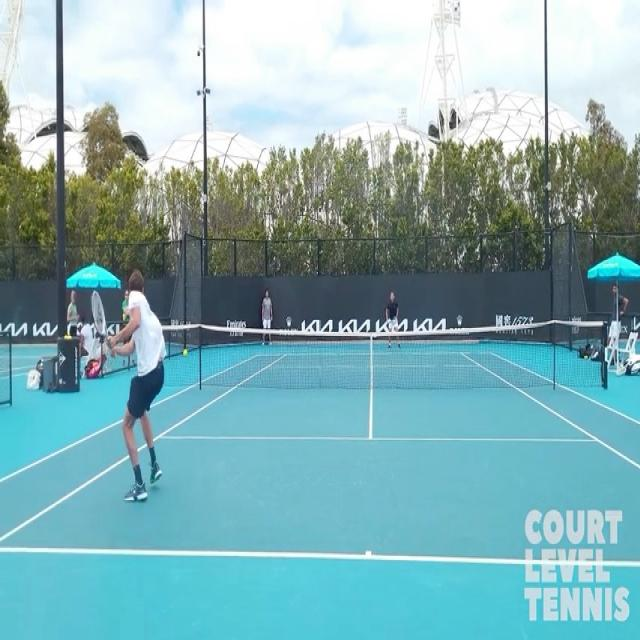backhand-ready: (86, 256, 180, 520)
